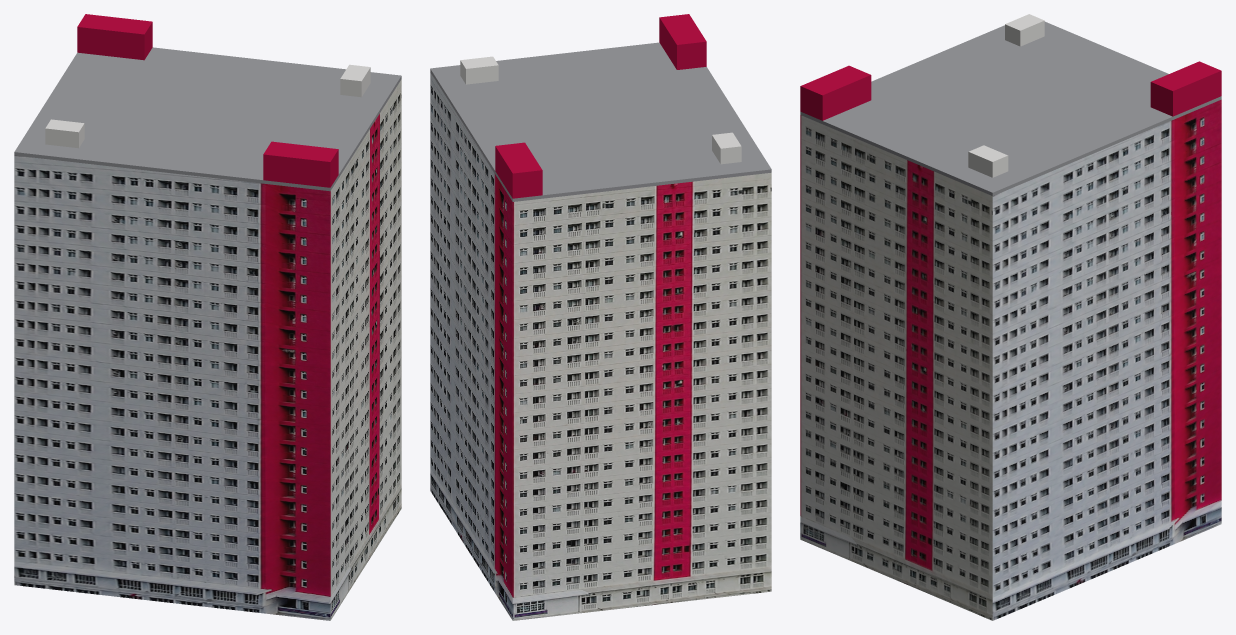
Rendered from gedung_apartemen.glb.
3 views of the same model, side by side, from view 1: azimuth 30°, elevation 25°; view 2: azimuth 150°, elevation 25°; view 3: azimuth 270°, elevation 25° (orthographic). The views are drawn at different scales.
Parts seen in each view (by area): view 1: Apartment_Tower; view 2: Apartment_Tower; view 3: Apartment_Tower.
Boxes of the visible parts, box(x1,y1,x2,y2) form: Apartment_Tower: box(14, 14, 401, 620); Apartment_Tower: box(430, 14, 771, 620); Apartment_Tower: box(800, 14, 1221, 620).
Size of the model in its own units: 67.37 by 80.1 by 67.37.
1 material, 1 textured.
